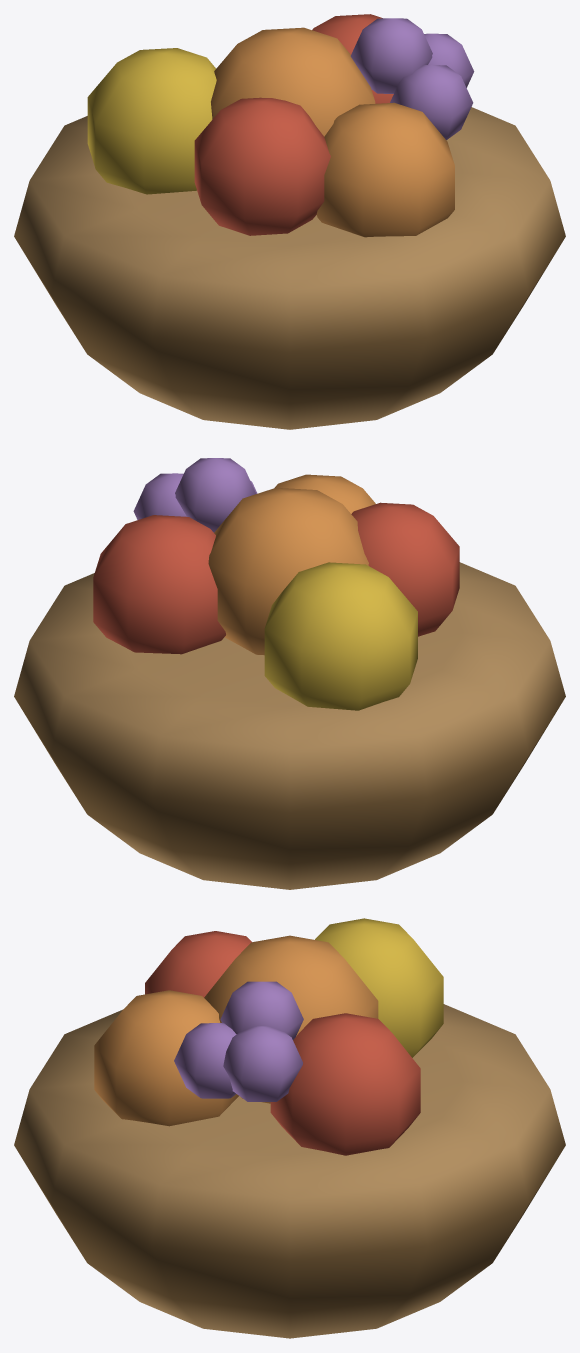
The model's file is basket.glb.
3 views of the same model, one above another, from view 1: azimuth 30°, elevation 25°; view 2: azimuth 150°, elevation 25°; view 3: azimuth 270°, elevation 25° (orthographic).
Visible parts, largest first — view 1: basket; view 2: basket; view 3: basket.
Boxes of the visible parts, bbox=[...] form: basket: bbox=[14, 14, 565, 429]; basket: bbox=[14, 458, 565, 889]; basket: bbox=[14, 918, 565, 1338].
Size of the model in its own units: 0.5947 by 0.3911 by 0.5947.
